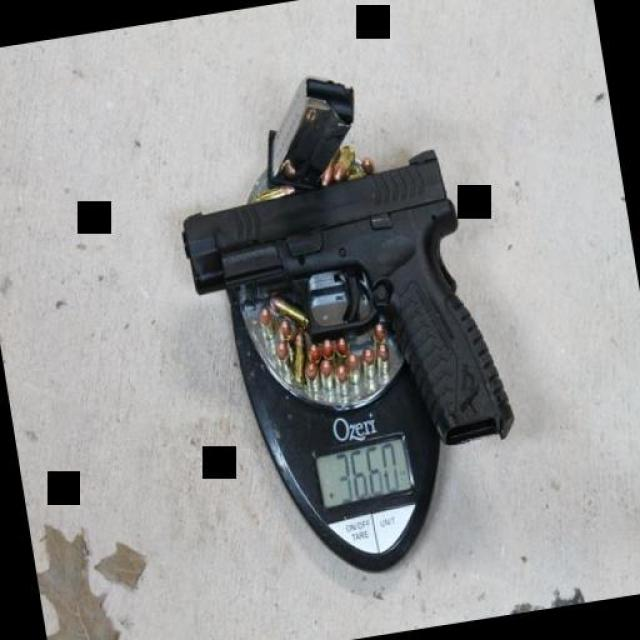gun: (171, 141, 514, 485)
